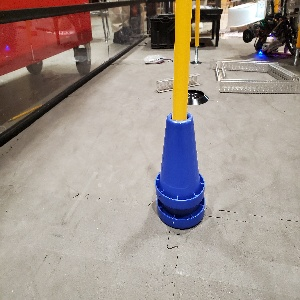Blue_2: (154, 113, 205, 229)
